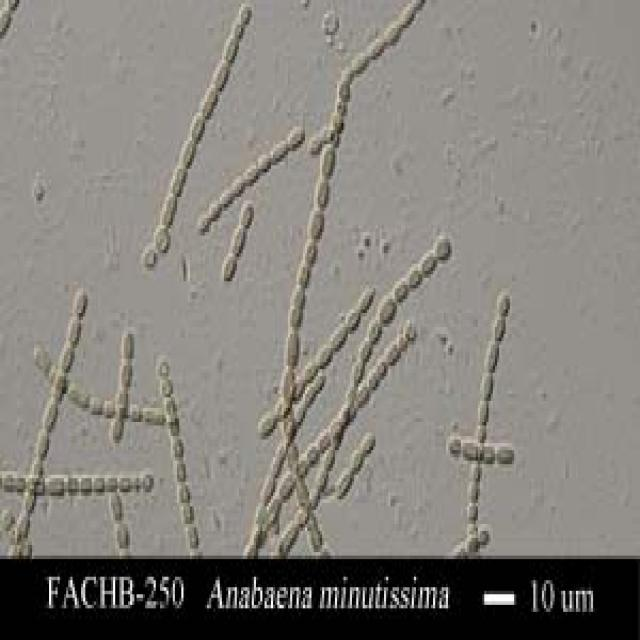Blue Green Algae: (40, 397, 60, 436), (290, 285, 307, 330), (292, 471, 310, 510), (484, 338, 502, 376), (68, 384, 88, 418), (320, 144, 337, 183), (256, 408, 277, 439), (335, 472, 354, 506), (488, 313, 508, 345), (45, 471, 64, 503), (141, 404, 168, 426), (15, 510, 34, 541), (282, 366, 296, 408), (109, 408, 124, 447), (436, 232, 454, 264), (356, 288, 376, 316), (328, 324, 348, 352), (200, 88, 218, 119), (152, 222, 170, 253), (365, 313, 382, 345), (446, 429, 463, 461), (109, 492, 124, 528), (399, 4, 418, 32), (378, 292, 397, 320), (30, 344, 49, 372), (34, 432, 53, 460), (211, 60, 228, 91), (314, 176, 331, 207), (113, 521, 130, 552), (183, 521, 200, 552), (269, 443, 284, 478), (260, 475, 275, 510), (296, 260, 312, 292), (360, 432, 378, 460), (86, 394, 104, 422), (22, 486, 40, 514), (230, 229, 246, 260), (350, 49, 367, 78), (190, 109, 205, 141), (160, 193, 175, 225), (70, 292, 90, 316), (478, 369, 493, 401), (369, 362, 384, 394), (141, 242, 158, 270), (269, 137, 286, 165), (463, 436, 480, 464), (286, 330, 299, 366), (301, 236, 316, 267), (386, 338, 401, 369), (286, 436, 299, 471), (420, 253, 438, 278), (182, 137, 198, 165), (392, 274, 408, 302), (282, 408, 296, 439), (284, 521, 298, 552), (170, 166, 186, 193), (328, 412, 344, 439), (384, 21, 401, 46), (307, 211, 324, 236), (66, 316, 81, 344), (59, 341, 72, 373), (499, 288, 512, 320), (350, 450, 363, 482), (115, 383, 128, 415), (237, 4, 254, 28), (480, 440, 497, 464), (222, 250, 235, 281), (104, 471, 120, 496), (497, 443, 516, 464), (314, 344, 332, 366), (120, 334, 134, 362), (120, 358, 134, 386), (476, 398, 490, 426), (312, 524, 324, 556), (170, 440, 186, 464), (222, 35, 237, 60), (367, 35, 382, 60), (465, 499, 480, 524), (79, 471, 94, 496), (288, 126, 305, 148), (337, 95, 350, 123), (403, 316, 416, 344), (350, 355, 363, 383), (303, 384, 316, 412), (51, 380, 66, 404), (175, 482, 192, 503), (179, 500, 196, 520), (465, 534, 480, 556), (241, 200, 254, 225), (243, 162, 258, 183), (207, 197, 222, 218), (196, 211, 211, 232), (337, 78, 352, 99), (322, 450, 337, 471), (220, 186, 234, 208), (314, 471, 326, 496), (156, 358, 170, 379), (408, 264, 420, 288), (472, 461, 484, 485), (344, 310, 358, 330), (467, 482, 480, 503), (230, 176, 246, 193), (256, 151, 271, 169), (175, 464, 190, 482), (331, 109, 344, 127), (318, 432, 328, 453), (94, 472, 104, 492), (160, 380, 173, 394), (233, 21, 243, 39)
